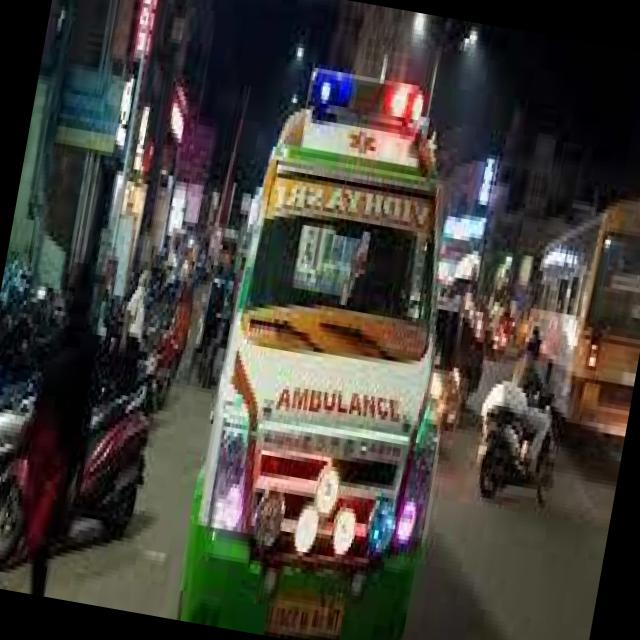ambulance: (161, 35, 505, 640), (284, 42, 446, 179), (264, 362, 404, 443)
